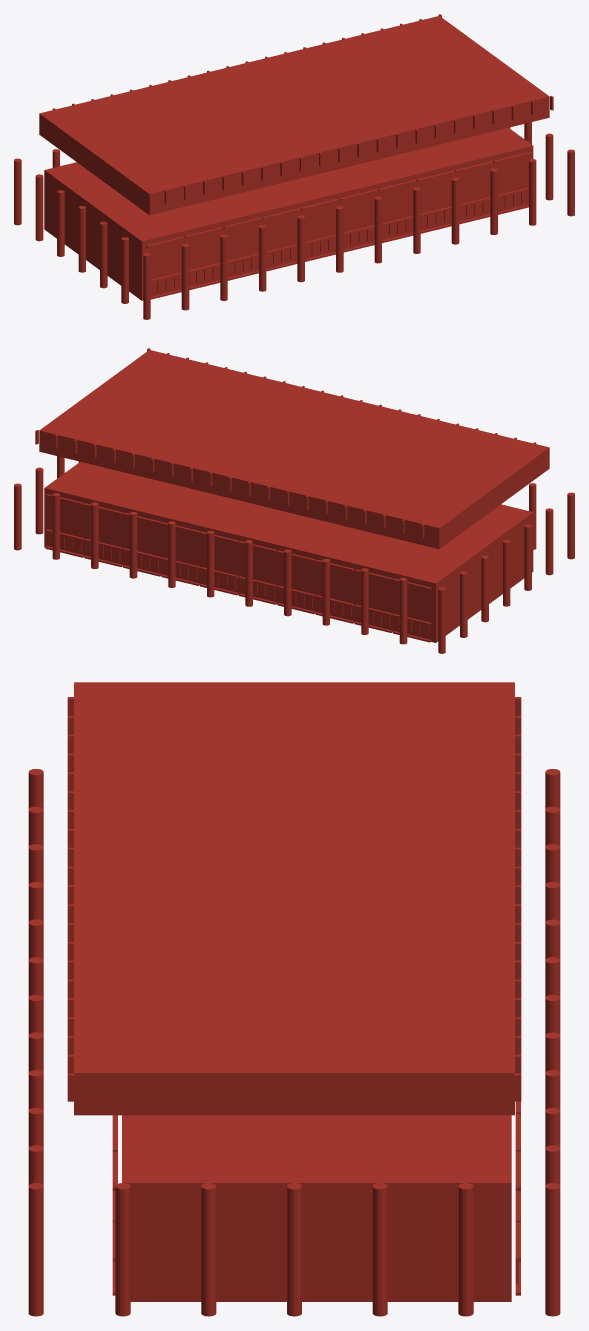
The model's file is SM_06_red.fbx.
The picture shows the model from 3 angles, top to bottom: view 1: azimuth 30°, elevation 25°; view 2: azimuth 150°, elevation 25°; view 3: azimuth 270°, elevation 25°; orthographic projection. The views are drawn at different scales.
Parts seen in each view (by area): view 1: red; view 2: red; view 3: red.
Boxes of the visible parts, x1=… form: red: x1=14, y1=14, x2=574, y2=319; red: x1=14, y1=348, x2=574, y2=653; red: x1=28, y1=682, x2=560, y2=1316.
Bounding box in the file's own units: 4468 × 2388 × 1155.
